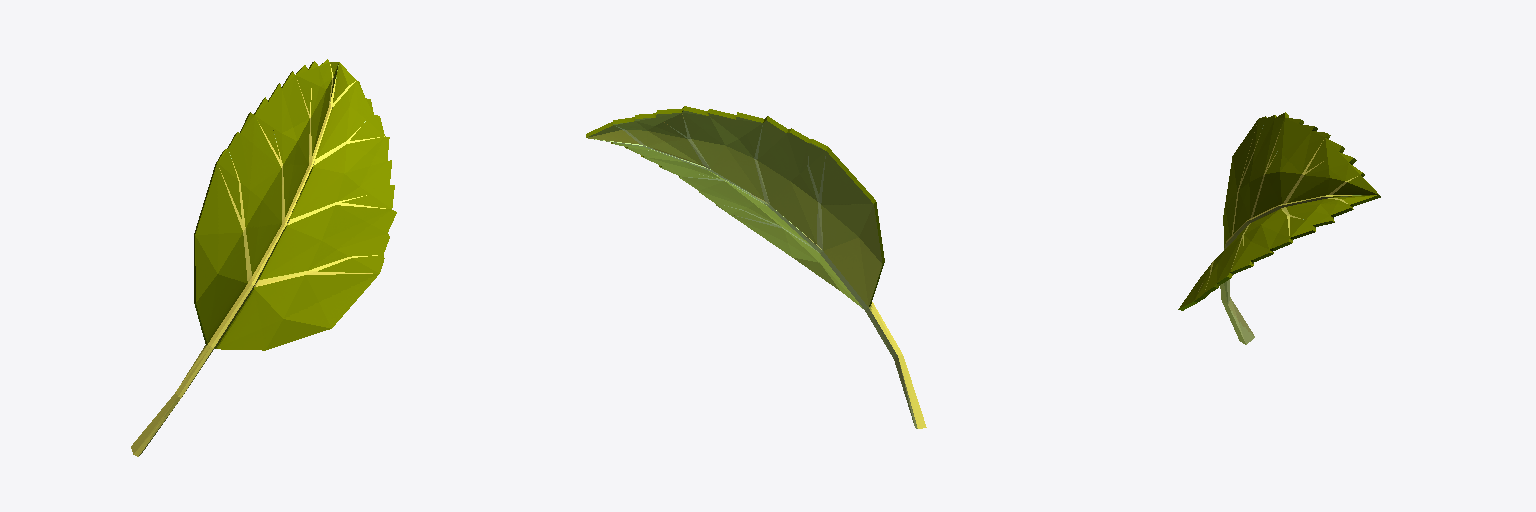
The picture shows the model from 3 angles: view 1: azimuth 30°, elevation 25°; view 2: azimuth 150°, elevation 25°; view 3: azimuth 270°, elevation 25°; orthographic projection.
Visible parts, largest first — view 1: leaf; view 2: leaf; view 3: leaf.
Part boxes in pixels (x1,y1,x2,y2): leaf: (131, 59, 396, 456); leaf: (586, 106, 926, 428); leaf: (1178, 112, 1380, 344).
Bounding box in the file's own units: 1.32 × 1.37 × 0.8257.
1 materials, 1 textured.